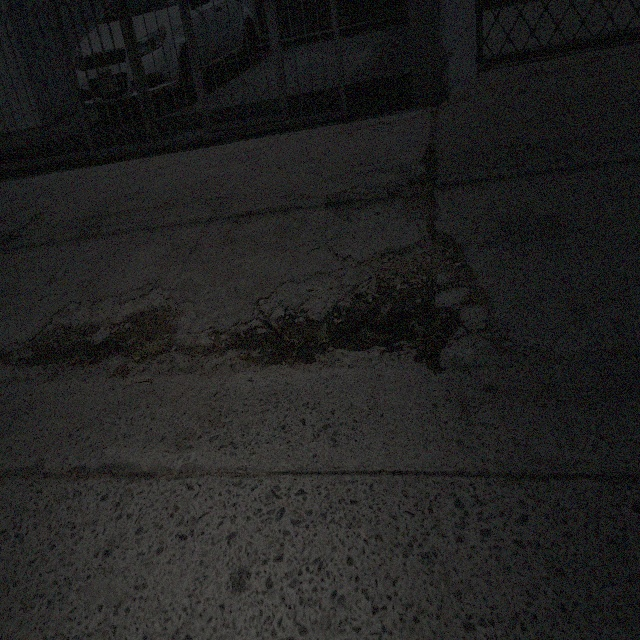pothole: (231, 229, 468, 368), (363, 235, 460, 368), (28, 307, 184, 363), (389, 169, 439, 205)
